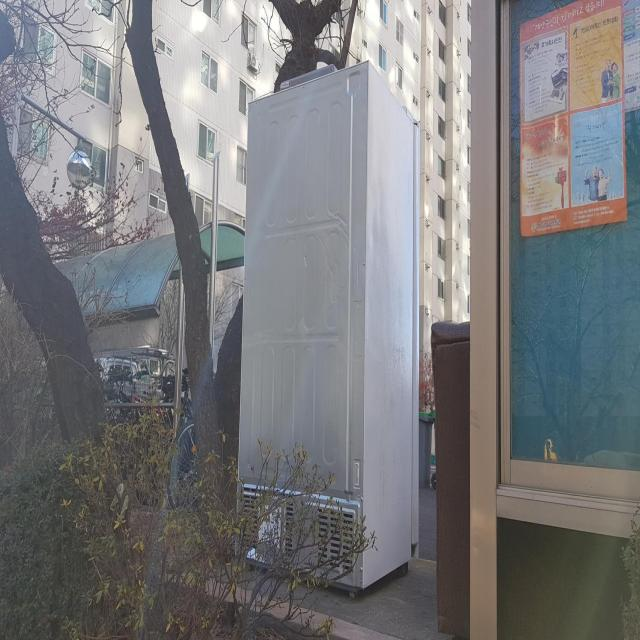refrigerator: (233, 56, 427, 607)
